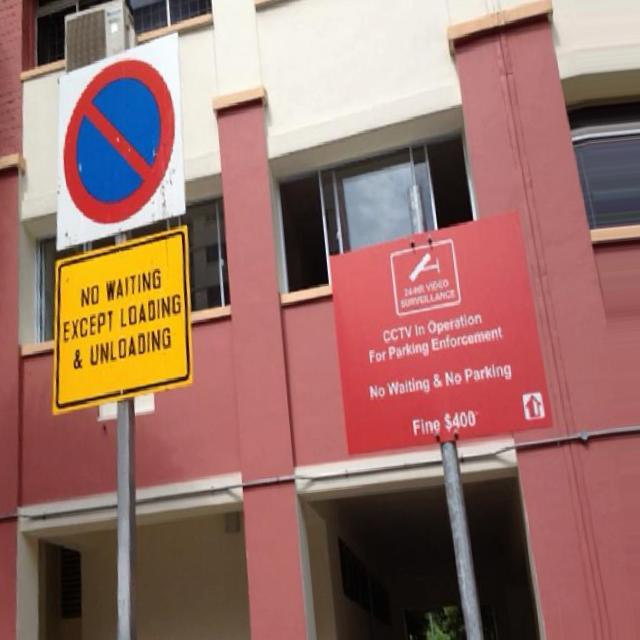forb_stopping: (65, 58, 175, 223)
